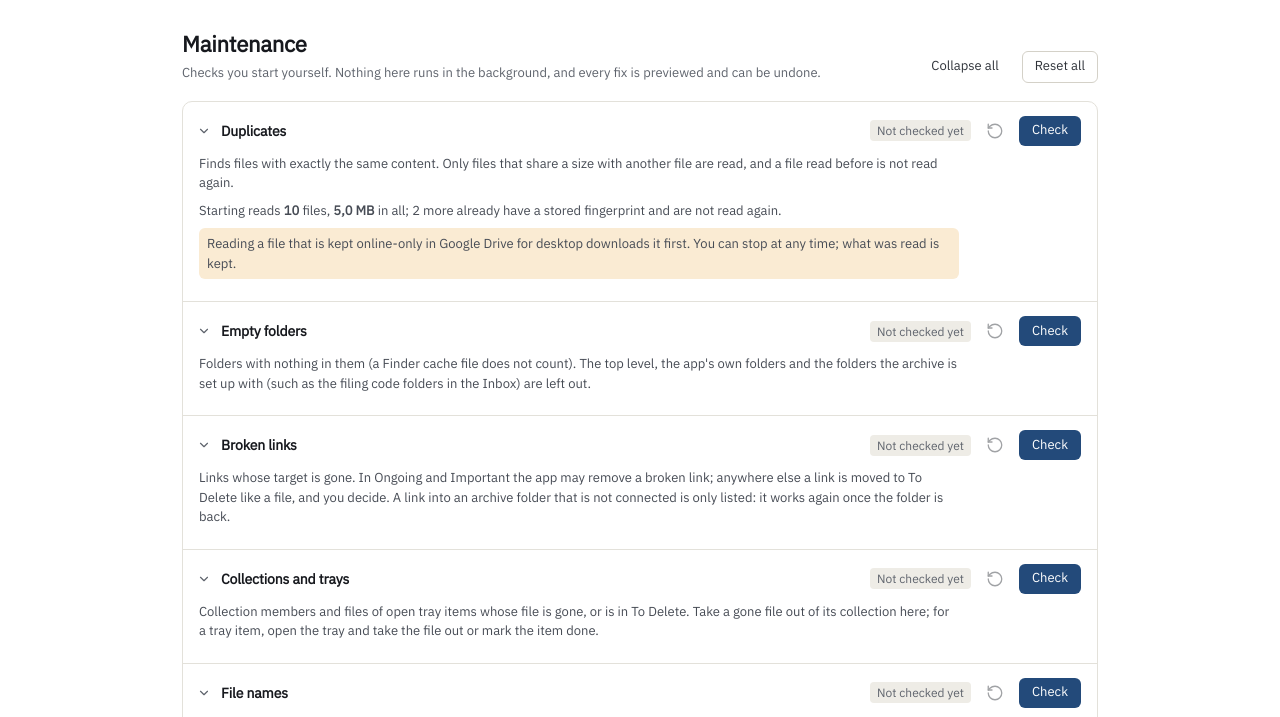
Test case: Maintenance screen › leaving the screen stops a running check, so nothing keeps reading in the background
The width and height of the screenshot is (1280, 717).
Click the button "Check" in the row of "Duplicates": coordinates (1050, 131) [1019,116,1081,146]
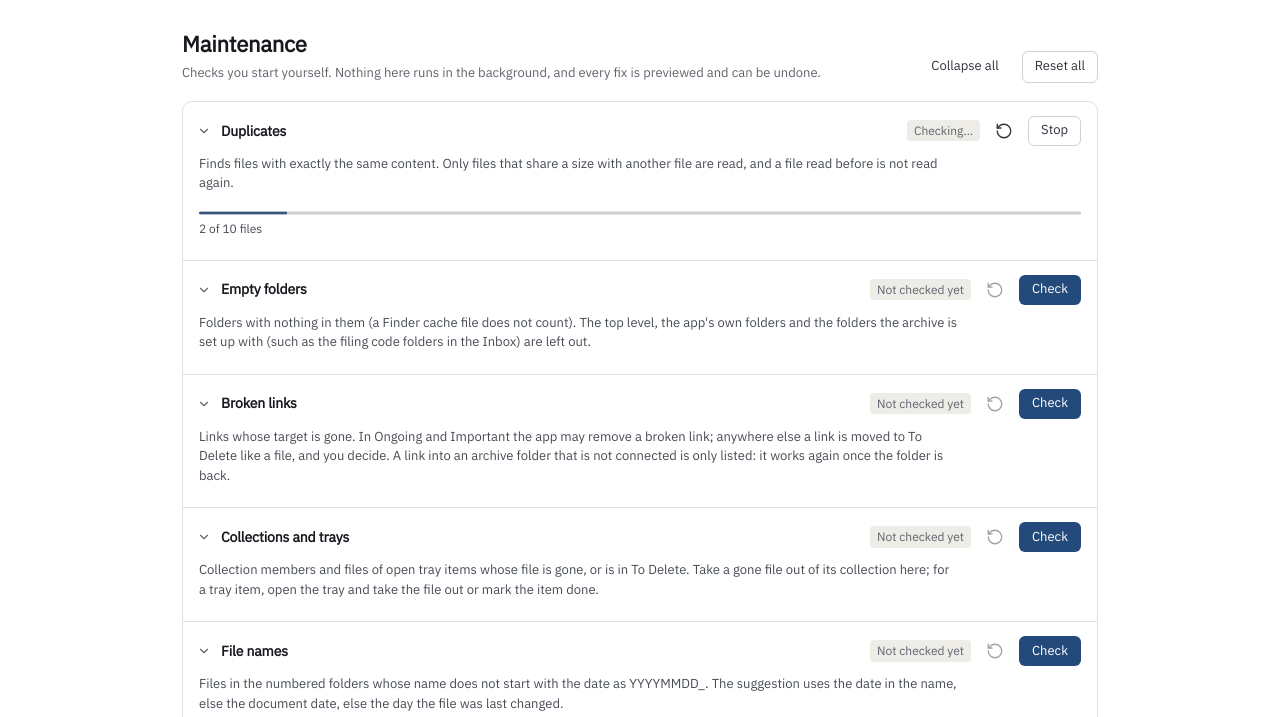
expect the progress indicator is shown: met, box [199,210,1081,216]
